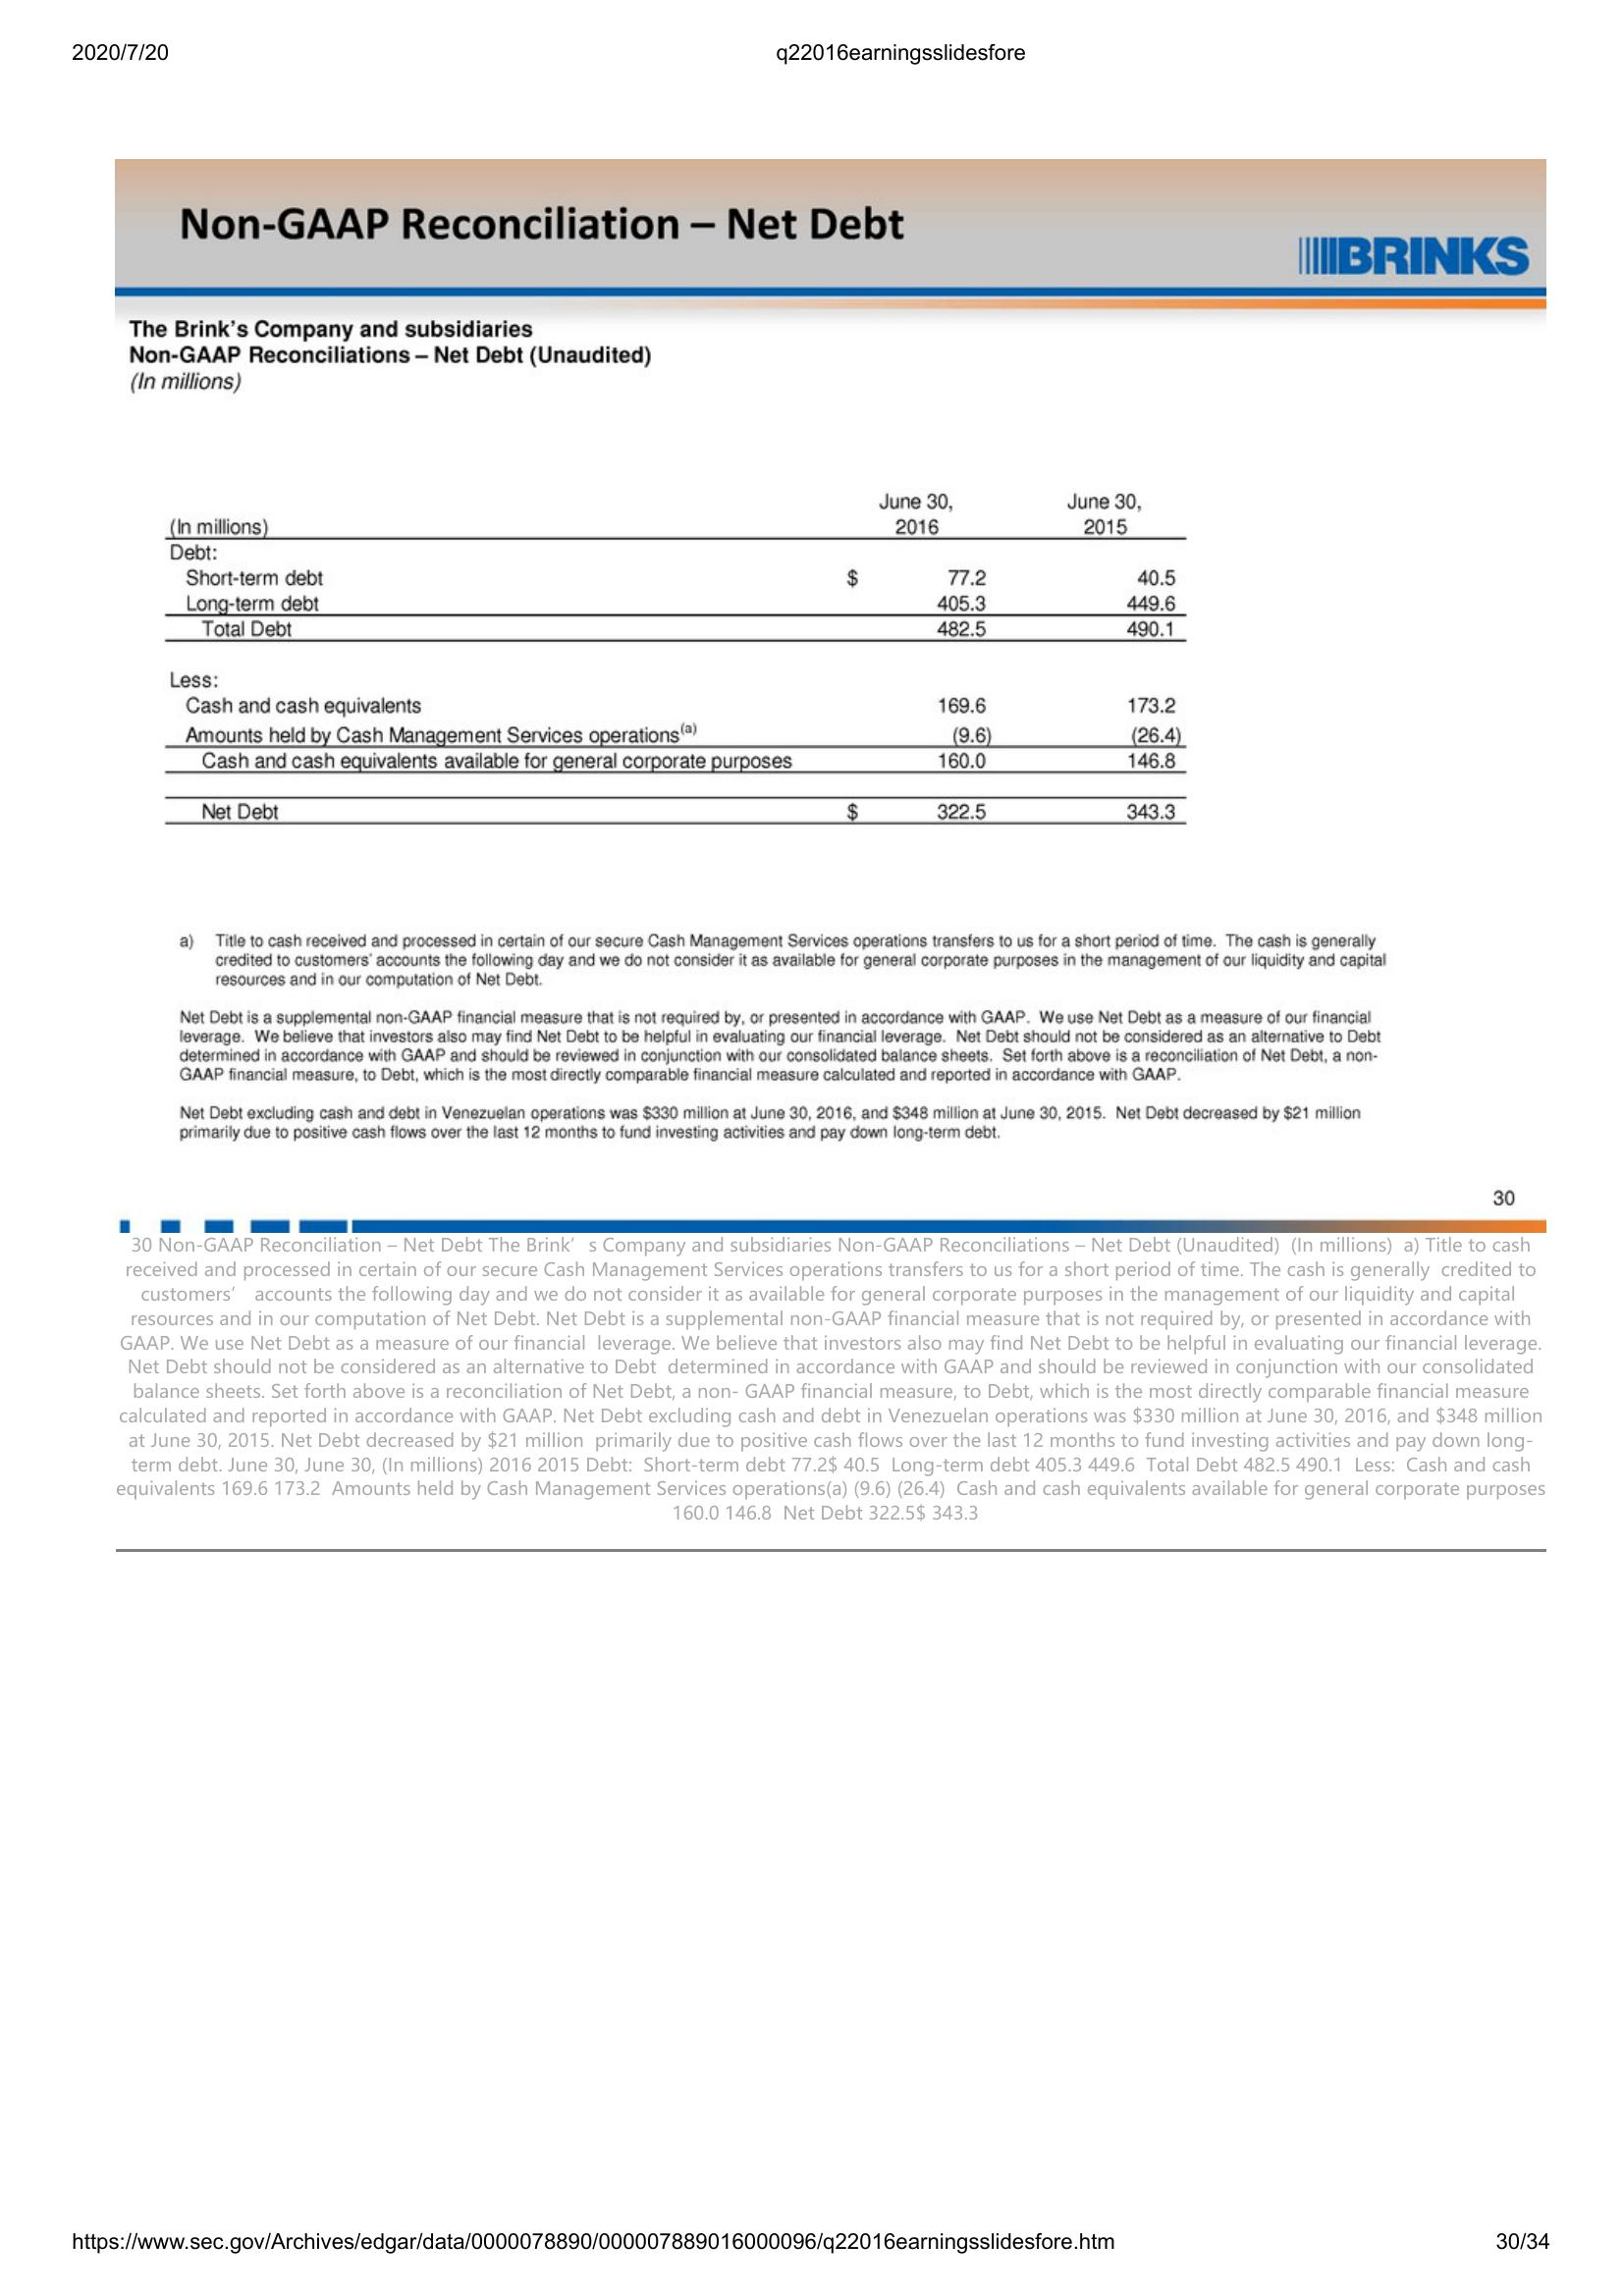table: (155, 484, 1196, 834)
